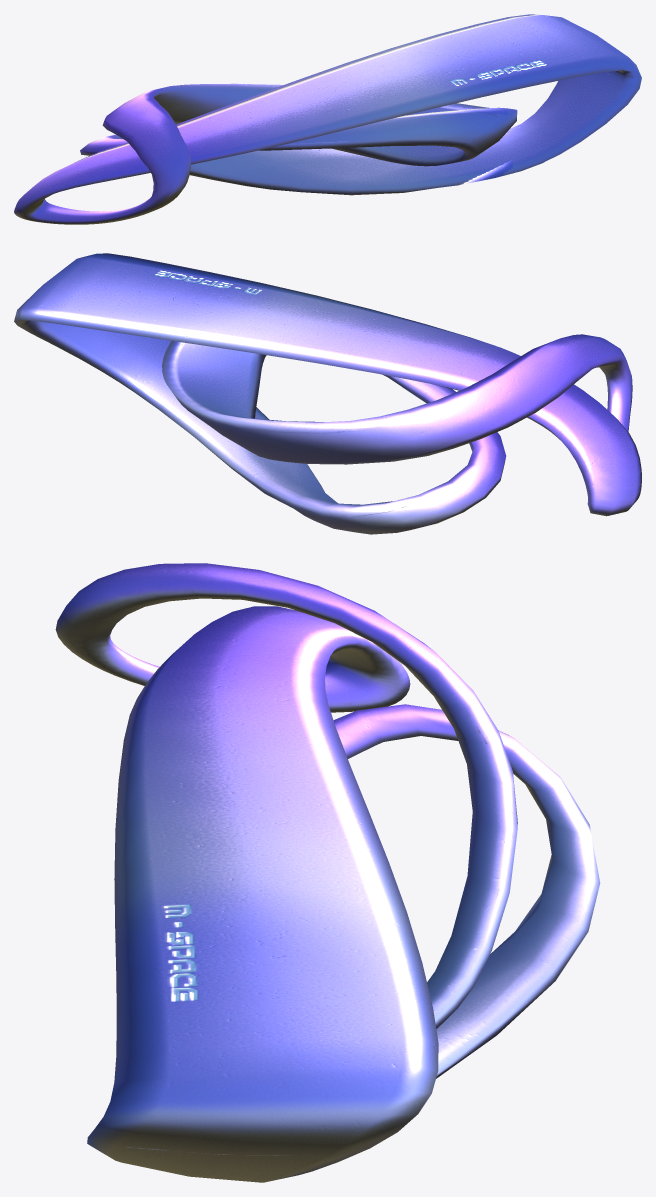
The model's file is SwirlTable.glb.
3 renders of one model, top to bottom at view 1: azimuth 30°, elevation 25°; view 2: azimuth 150°, elevation 25°; view 3: azimuth 270°, elevation 25°, orthographic. The views are drawn at different scales.
Visible parts, largest first — view 1: 平面.001; view 2: 平面.001; view 3: 平面.001.
Boxes of the visible parts, x1,y1,x2,y2 form: 平面.001: (14, 14, 641, 224); 平面.001: (14, 253, 641, 534); 平面.001: (55, 563, 600, 1182).
Size of what is drawn, in the model's own units: 5.96 by 1.49 by 2.47.
1 material, 1 textured.
